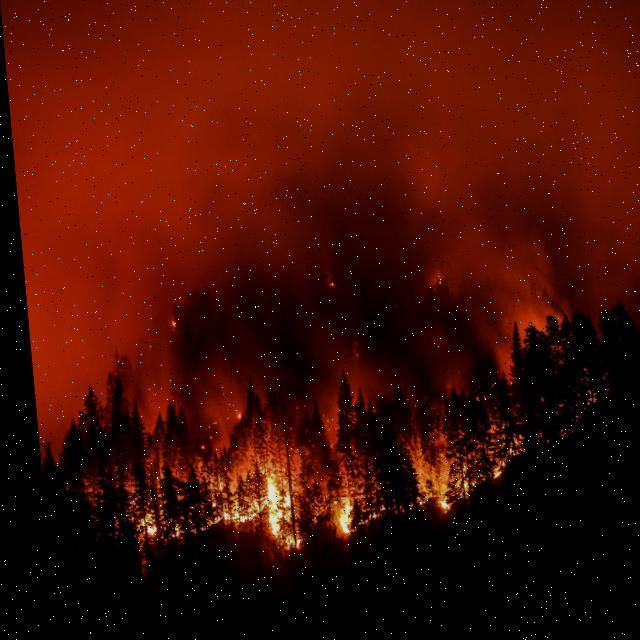Fire: (125, 428, 507, 560)
